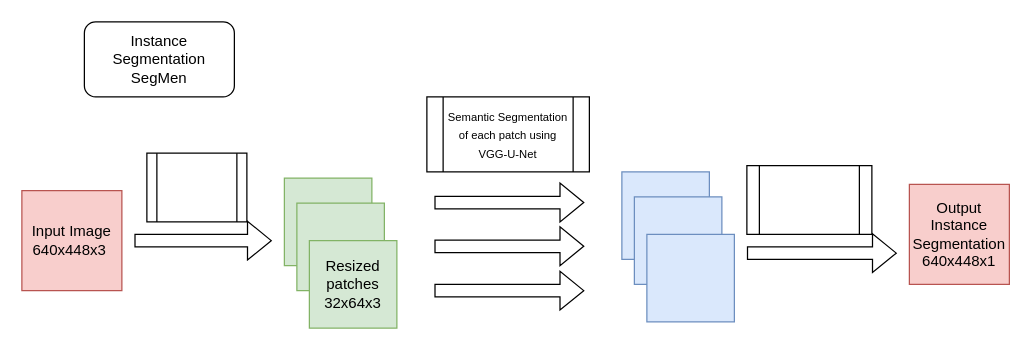
The diagram is 1031 pixels wide and 350 high, and some of its shapes have lost their labels. Each missing label, with the centre of its shape:
Concatanation of instance segmentations: pixel 809 199
Segmentation masks 32x64x1: pixel 690 277
YOLOv3 human detection: pixel 196 187
